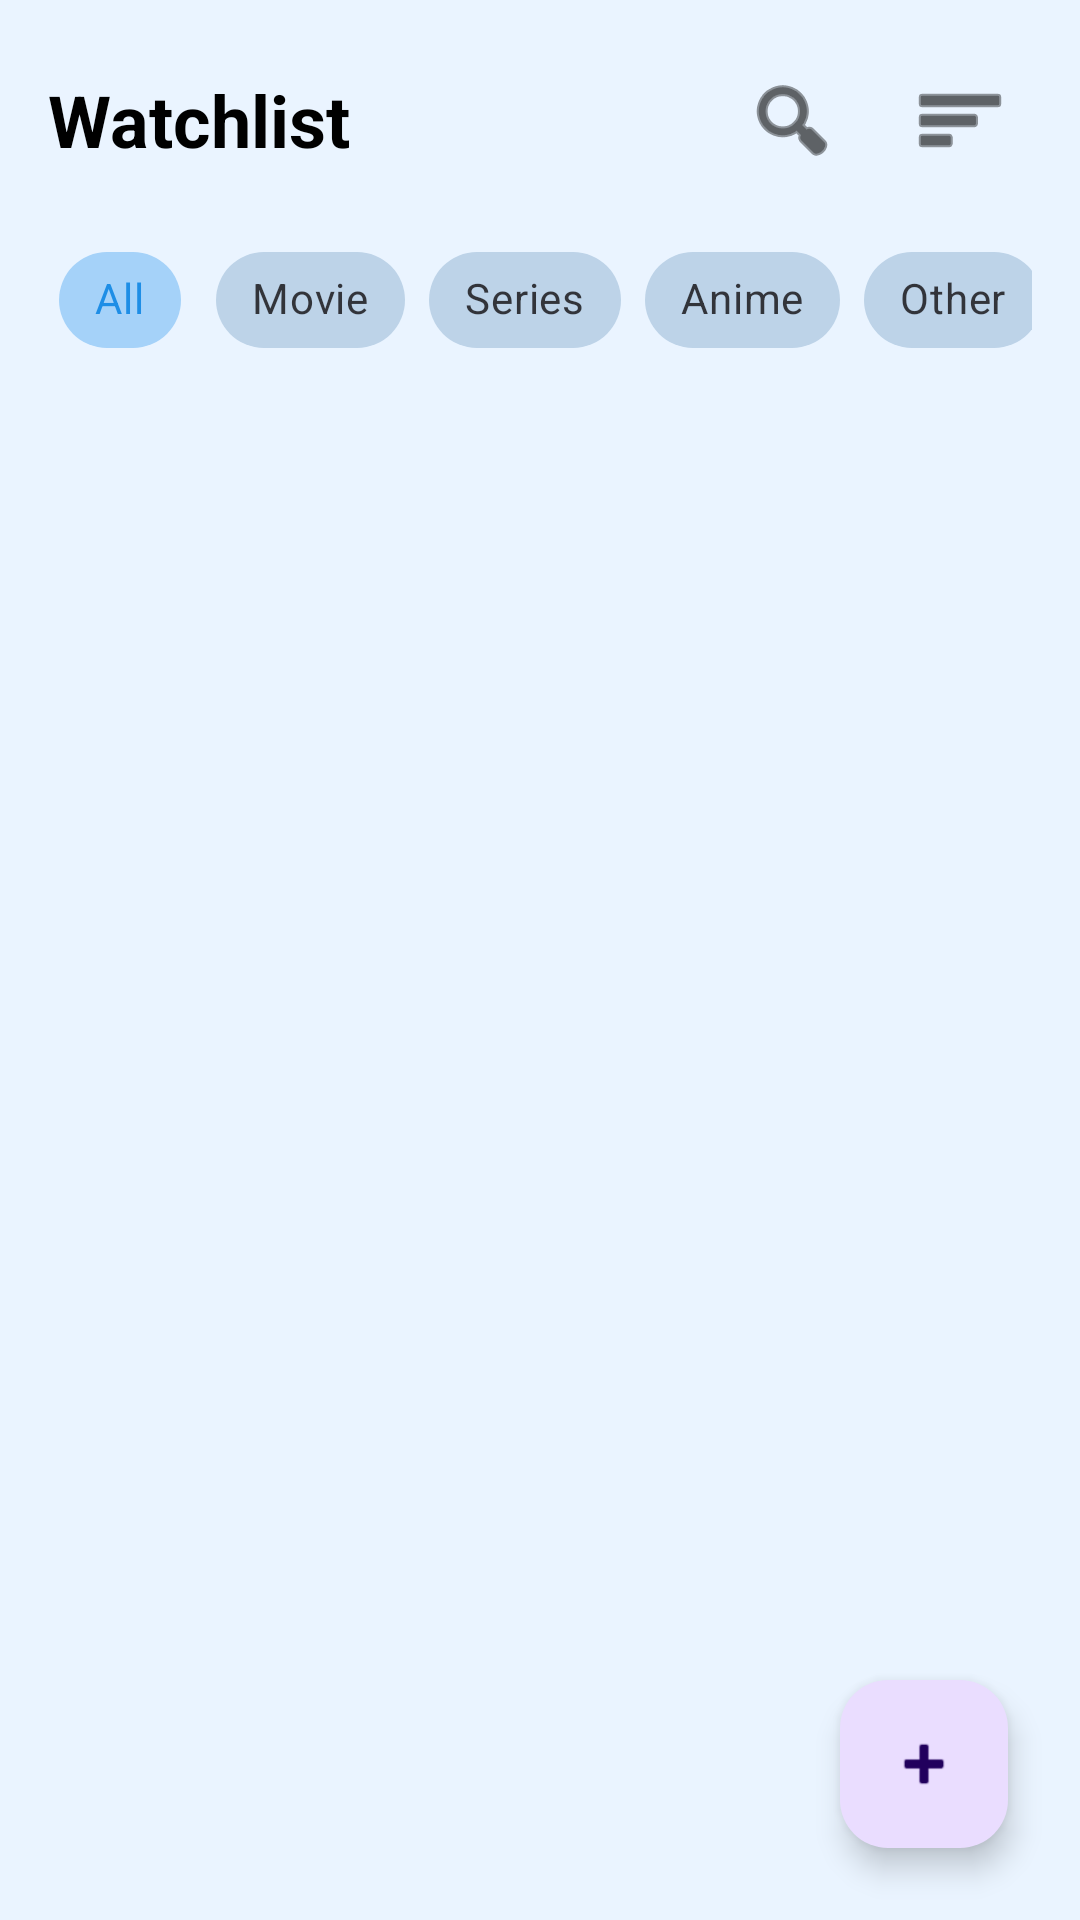

Where icons sit on this 1080*1920 app screen, as (x1, y1, x2, y2):
Add New Item: (840, 1680, 1008, 1848)
Search: (756, 85, 828, 156)
Sort: (919, 94, 1001, 147)
